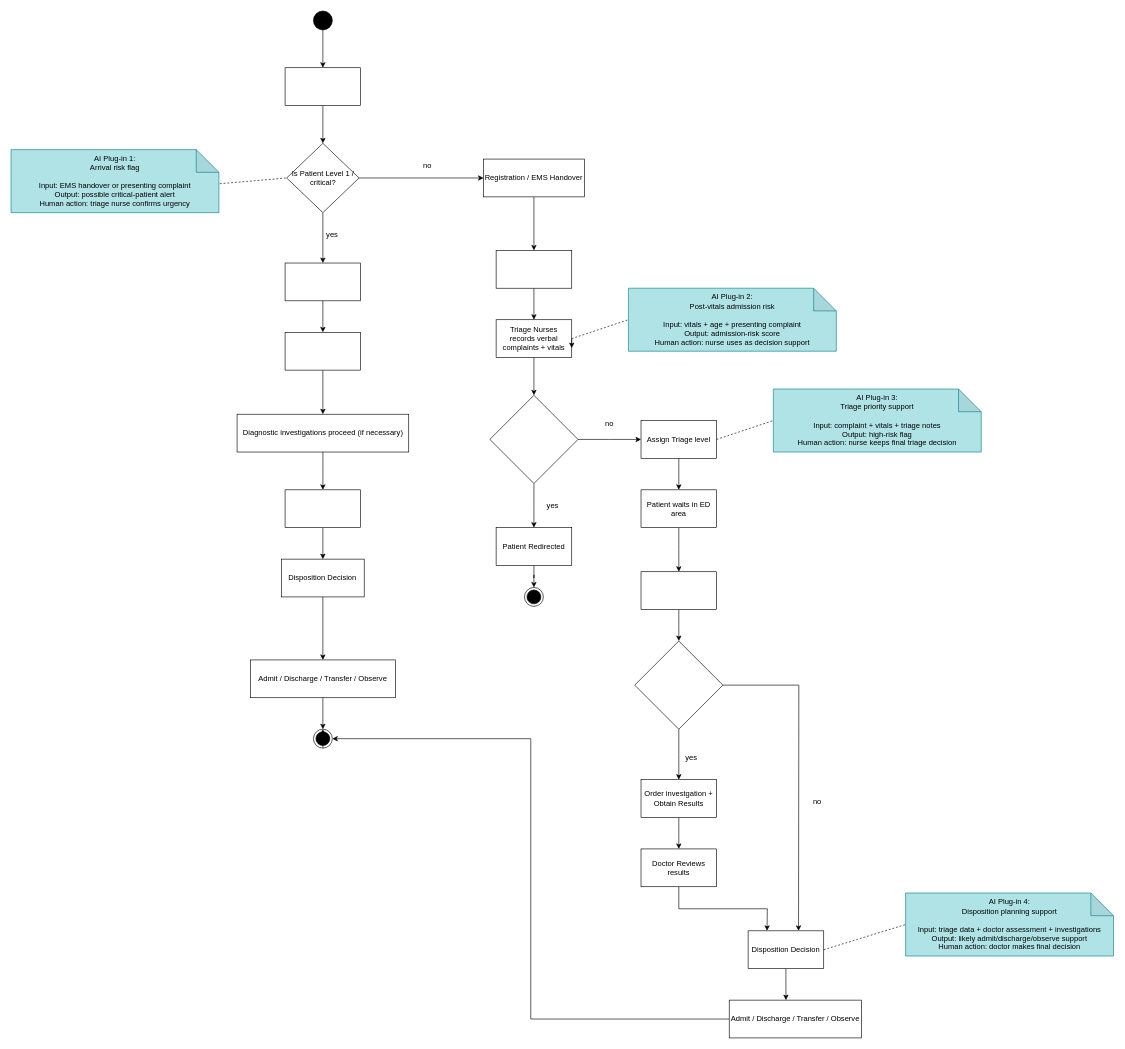
Some shapes in this 1125 by 1049 pixel diagram are drawn without their labels. Here are the shapes that lost their labels. From the top down, the centre of each, then its label:
point 322,86: Patient Arrives in ED
point 322,281: Move to resuscitation room
point 533,269: Wait for triage
point 322,351: Specialized Staff (Doctors and Nurses) are assigned to patient immediately
point 533,439: Redirect to local health center?
point 322,508: Treatment
point 678,590: Doctor Assessment
point 678,684: Investigations Needed?
